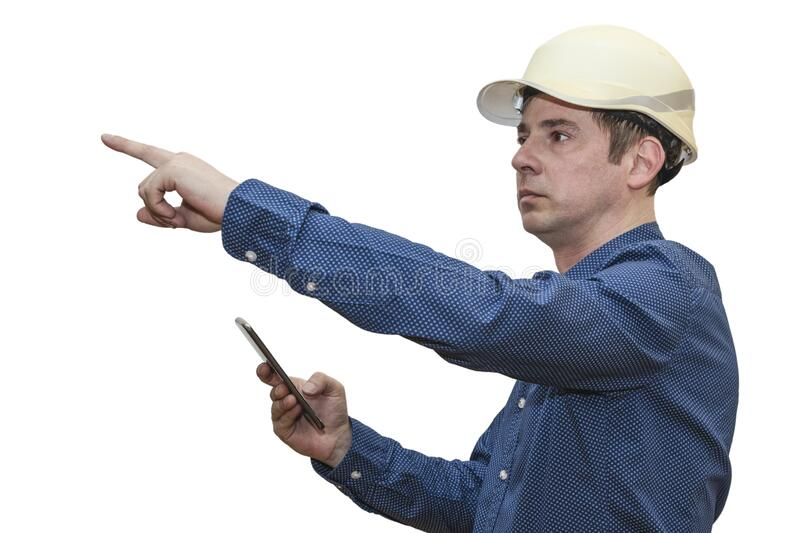casque: (344, 10, 726, 365)
